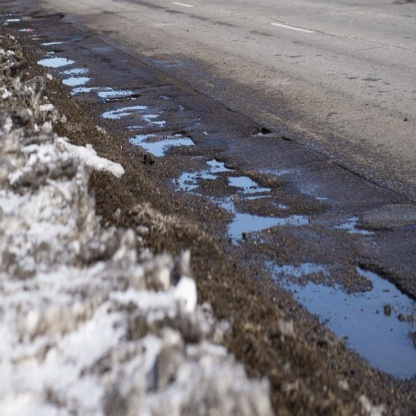pothole: (274, 243, 415, 387), (219, 197, 316, 249), (128, 114, 202, 165), (221, 163, 281, 197), (34, 53, 79, 72), (62, 70, 95, 89)
